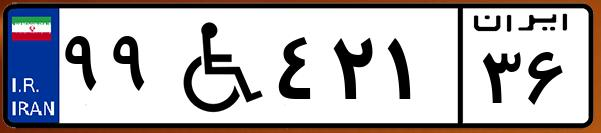1: (385, 28, 445, 110)
2: (330, 28, 385, 110)
3: (475, 38, 525, 113)
4: (270, 28, 330, 110)
6: (525, 38, 570, 115)
9: (57, 26, 110, 100), (110, 28, 158, 98)
ژ (معلولین و جانبازان): (158, 12, 270, 120)
